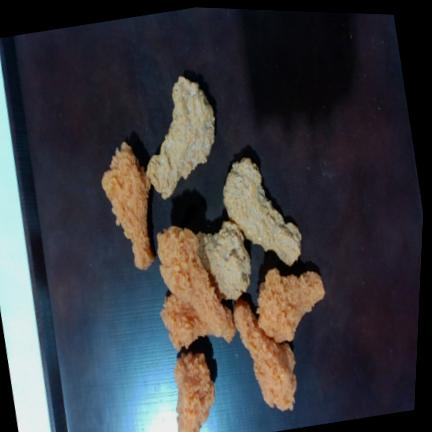chicken: (158, 227, 235, 343), (147, 76, 215, 199), (223, 158, 301, 265), (234, 298, 296, 411), (102, 142, 154, 269), (257, 268, 324, 342), (196, 221, 251, 300), (174, 353, 215, 432)
